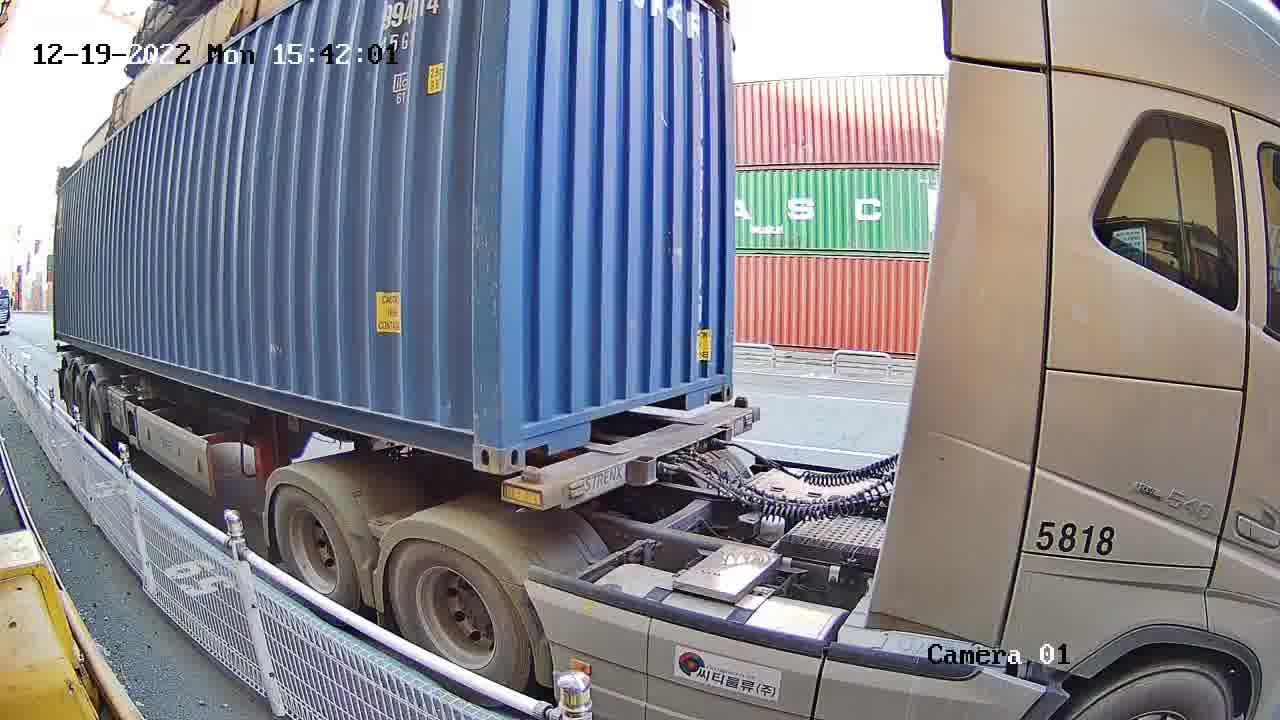Chassis: (502, 406, 759, 506)
Cone: (517, 467, 544, 488), (731, 397, 750, 410)
Hole_L: (501, 401, 549, 474)
Hole_R: (436, 399, 501, 474), (705, 357, 735, 404)
Tire: (387, 541, 523, 682), (274, 486, 353, 600)
